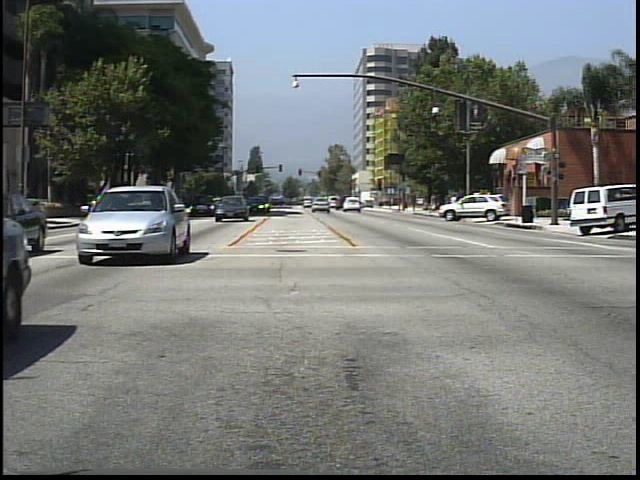person: (449, 187, 464, 220), (428, 189, 442, 214)
